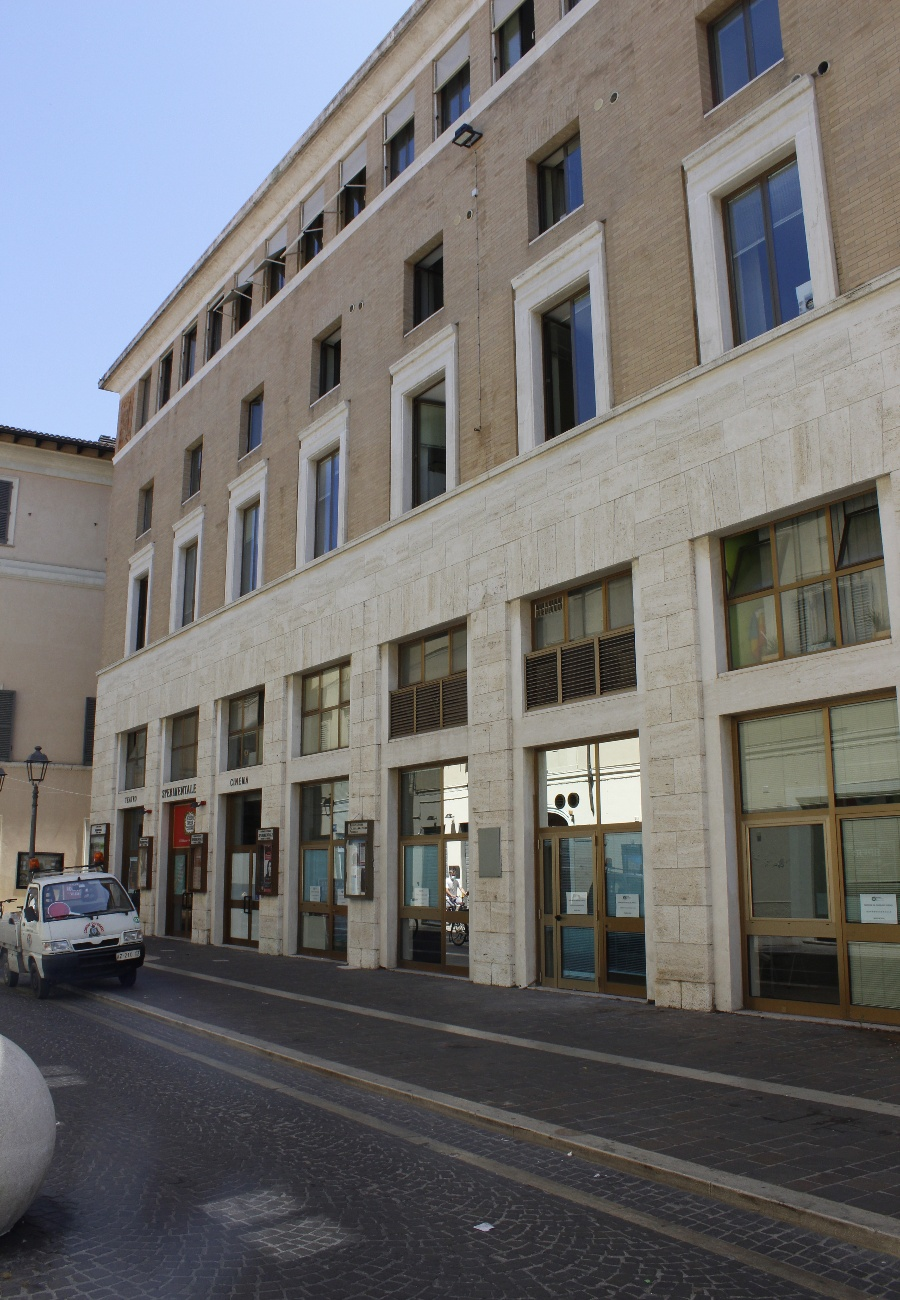Teatro Sperimentale: (102, 1, 892, 993)
